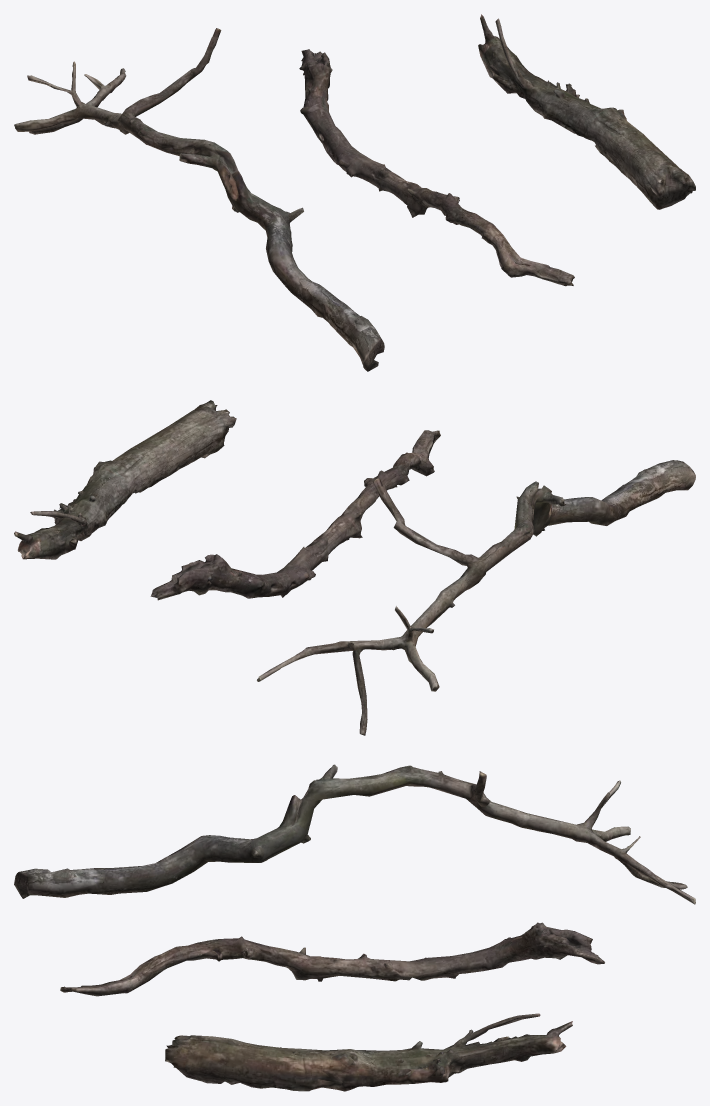
The model's file is dry_branches_medium_01.glb.
3 renders of one model, top to bottom at view 1: azimuth 30°, elevation 25°; view 2: azimuth 150°, elevation 25°; view 3: azimuth 270°, elevation 25°, orthographic. The views are drawn at different scales.
Visible parts, largest first — view 1: dry_branches_medium_01_a, dry_branches_medium_01_c, dry_branches_medium_01_b; view 2: dry_branches_medium_01_a, dry_branches_medium_01_c, dry_branches_medium_01_b; view 3: dry_branches_medium_01_a, dry_branches_medium_01_c, dry_branches_medium_01_b.
Part boxes in pixels (x1,y1,x2,y2): dry_branches_medium_01_a: (14, 28, 384, 371); dry_branches_medium_01_c: (478, 14, 695, 209); dry_branches_medium_01_b: (299, 49, 574, 286); dry_branches_medium_01_a: (257, 460, 695, 735); dry_branches_medium_01_c: (14, 400, 236, 559); dry_branches_medium_01_b: (150, 430, 440, 600); dry_branches_medium_01_a: (14, 764, 695, 904); dry_branches_medium_01_c: (165, 1013, 572, 1091); dry_branches_medium_01_b: (60, 922, 604, 996).
Size of the model in its own units: 1.06 by 0.3401 by 1.3.
Materials: 1 (1 with a texture image).
